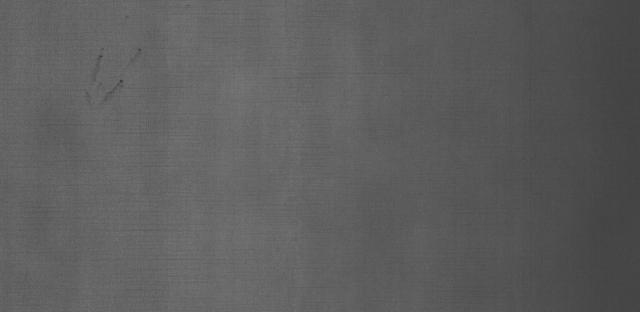water_spot: (70, 42, 155, 113)
